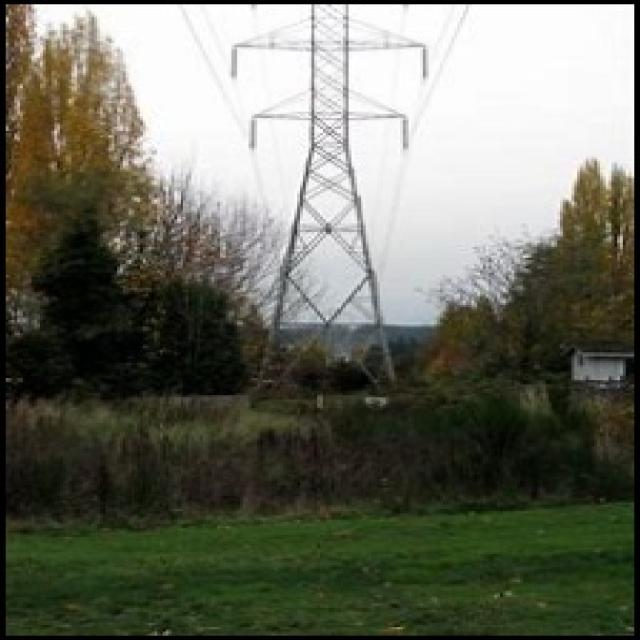utility poles: (207, 238, 324, 400), (346, 299, 478, 402)
